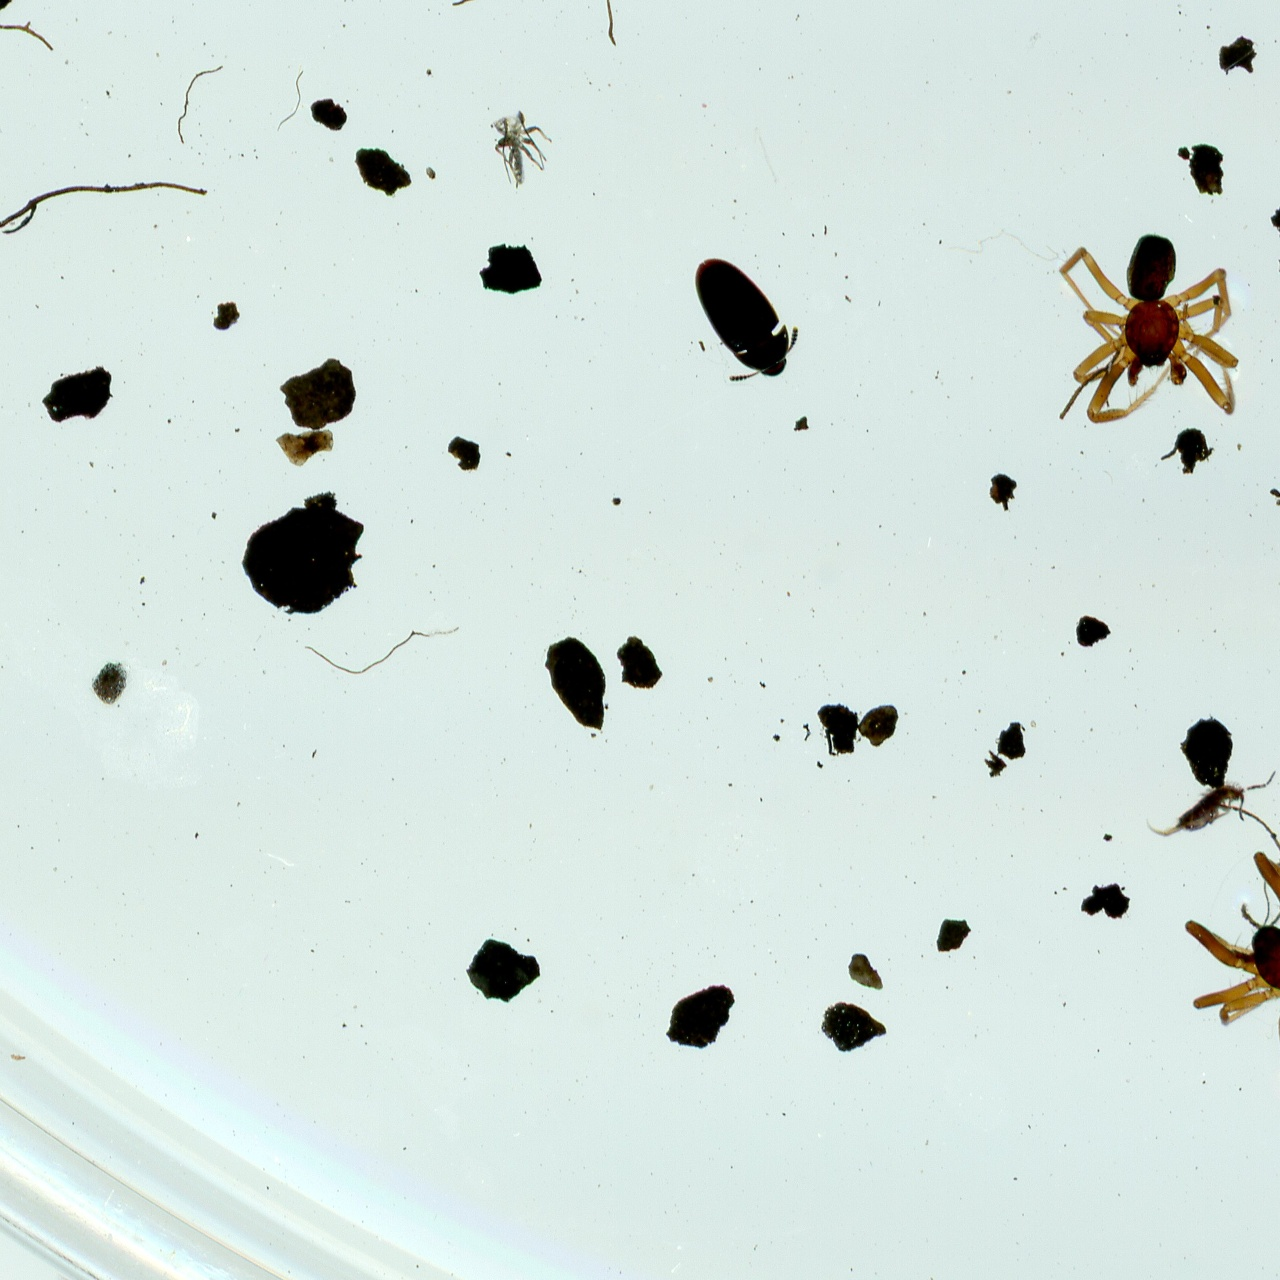arthropod: (1054, 229, 1242, 428), (1180, 850, 1280, 1089), (692, 250, 804, 389), (1133, 758, 1280, 857)
